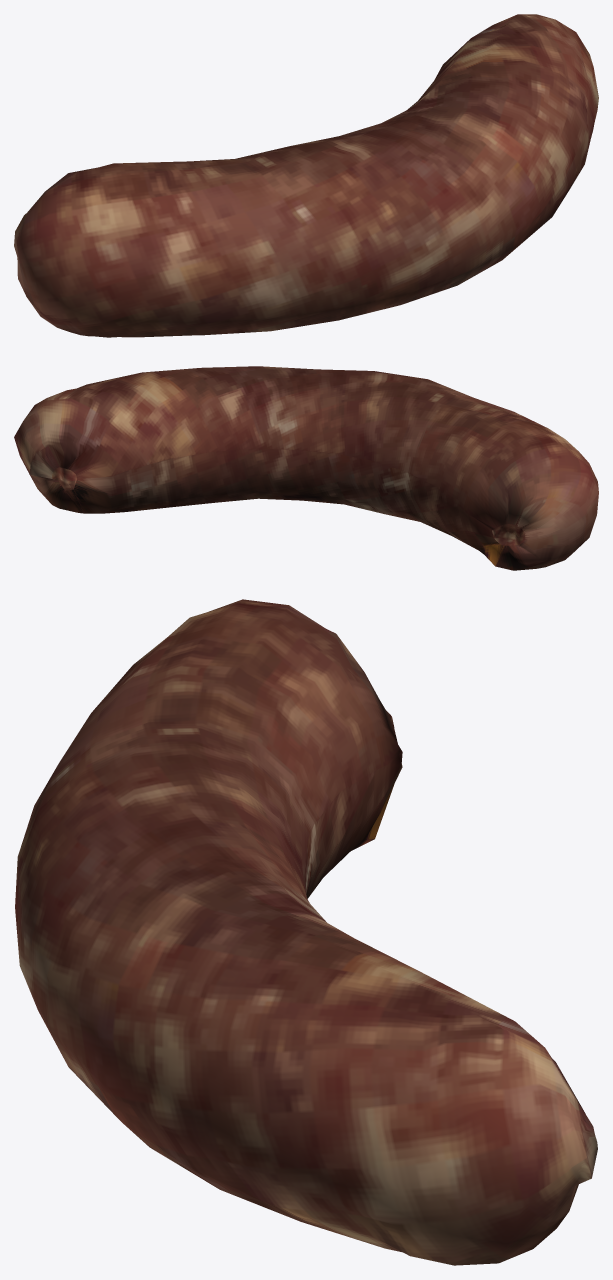
The model's file is ref_sausage.glb.
3 views of the same model, one above another, from view 1: azimuth 30°, elevation 25°; view 2: azimuth 150°, elevation 25°; view 3: azimuth 270°, elevation 25° (orthographic). The views are drawn at different scales.
Parts seen in each view (by area): view 1: ref_sausage; view 2: ref_sausage; view 3: ref_sausage.
Boxes of the visible parts, bbox=[...] form: ref_sausage: bbox=[14, 14, 598, 337]; ref_sausage: bbox=[14, 366, 598, 570]; ref_sausage: bbox=[15, 599, 597, 1265].
Bounding box in the file's own units: 1 × 0.2362 × 0.4963.
Materials: 1 (1 with a texture image).
